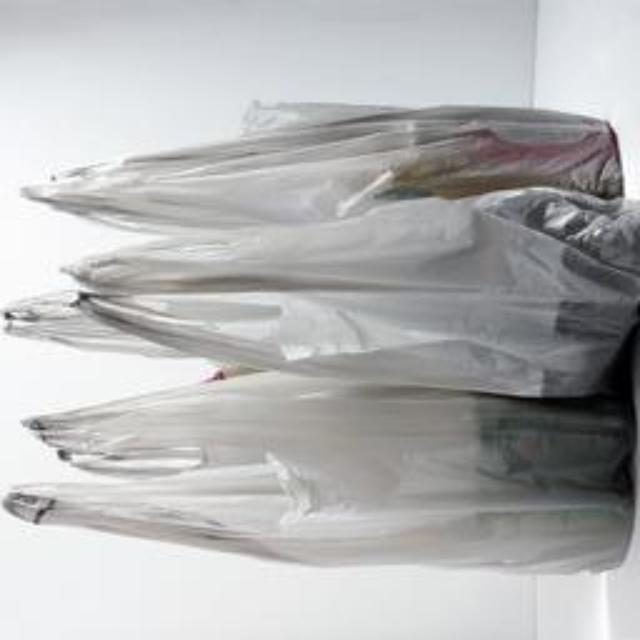Bolsa-de-plastico: (23, 334, 640, 517), (67, 202, 636, 393), (21, 109, 627, 243), (5, 463, 636, 568), (2, 291, 195, 362)
